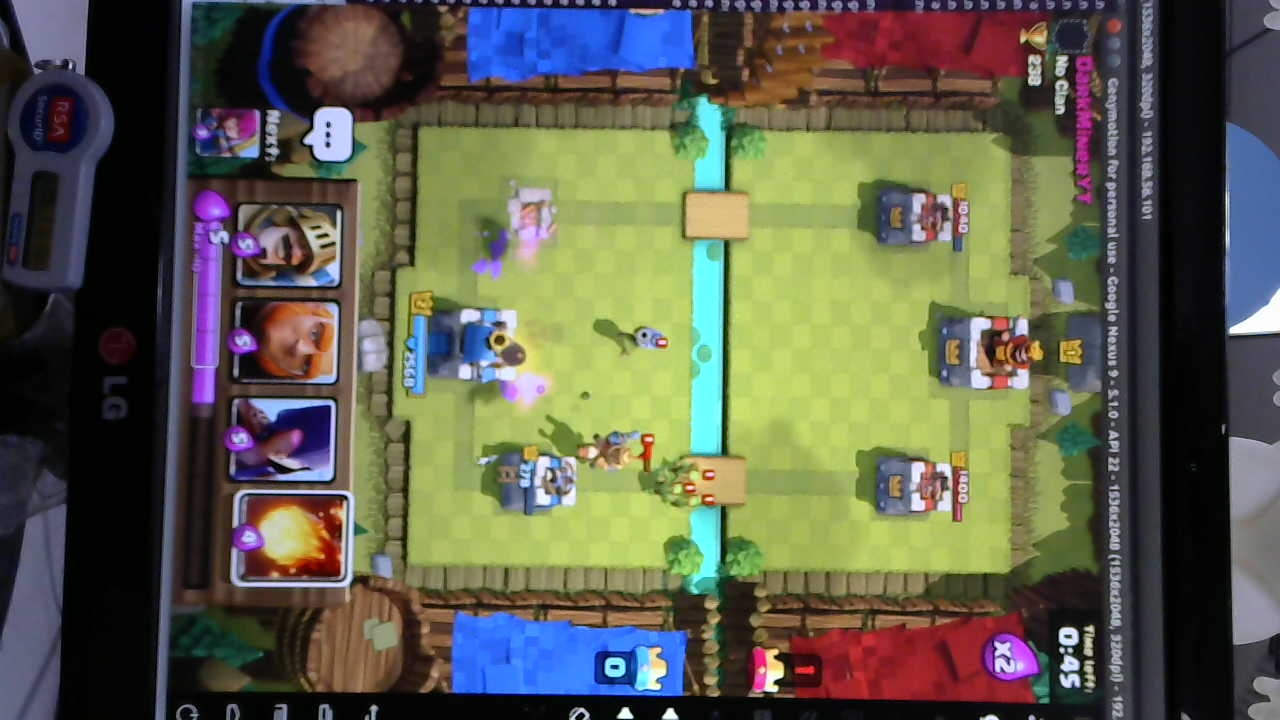arena: (499, 449, 580, 510)
earena: (873, 454, 954, 525), (880, 187, 954, 247)
eking: (938, 313, 1039, 394)
king: (435, 306, 517, 385)
musketeer: (616, 323, 668, 355)
prince: (566, 424, 641, 475)
speargoblins: (652, 460, 717, 509)
